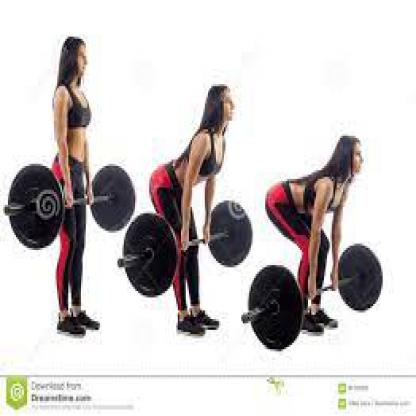Barbell: (242, 263, 308, 358), (119, 212, 181, 301), (4, 162, 66, 250)
